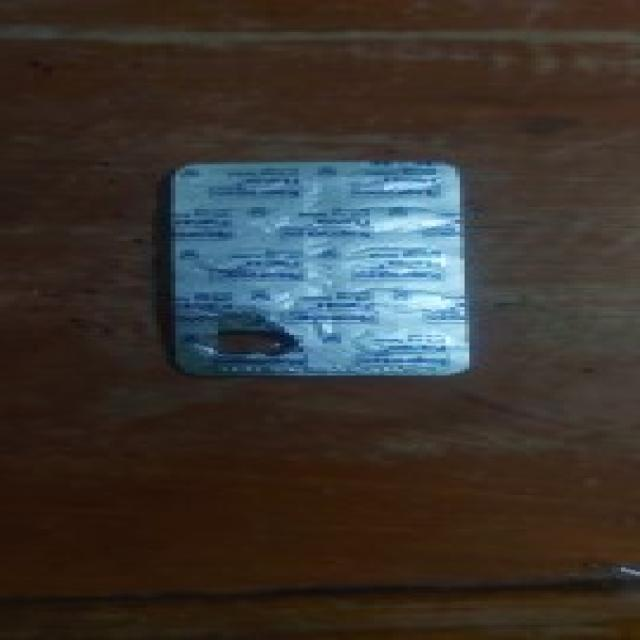Cacat: (167, 158, 458, 372)
Kemasan: (194, 311, 306, 365)
